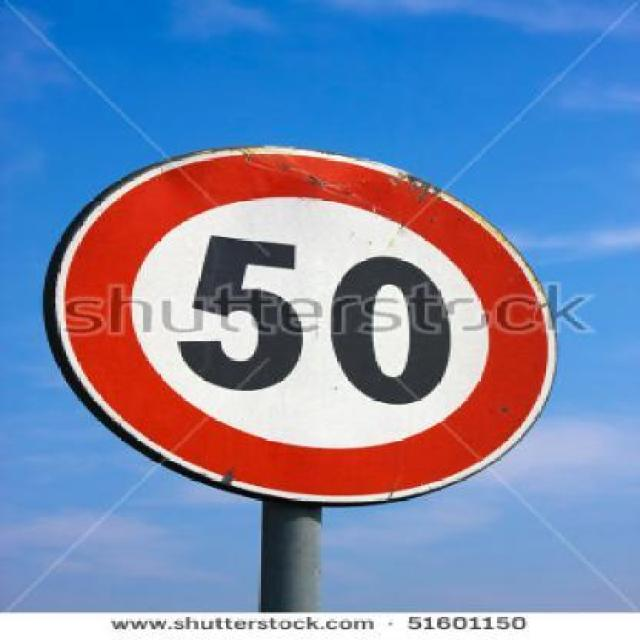speed_limit_50: (63, 158, 574, 500)
